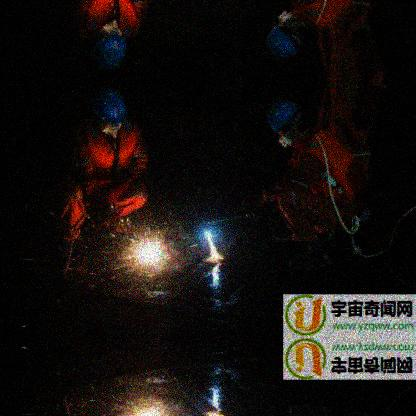helmet: (90, 20, 127, 70), (265, 100, 307, 144), (90, 88, 127, 137), (265, 19, 307, 60)
